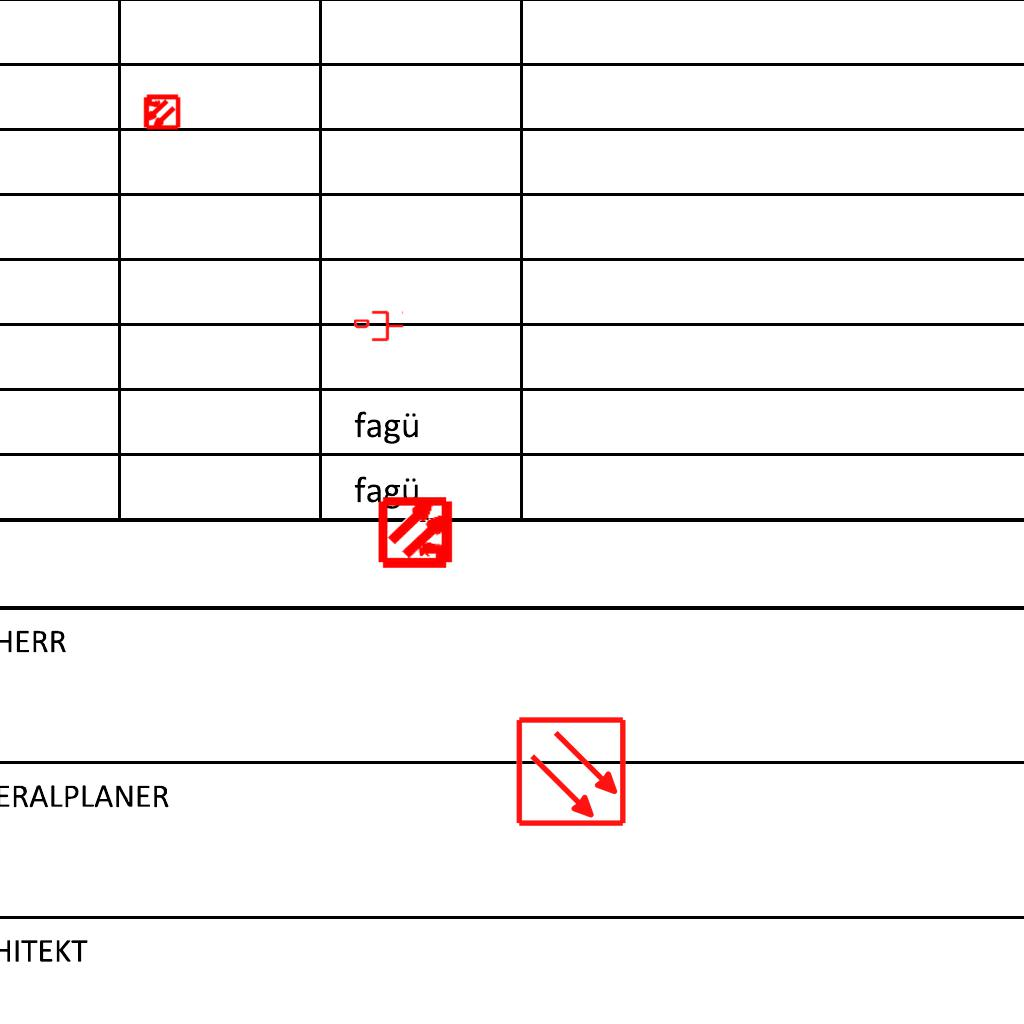Datenanschluss_einfach: (354, 309, 404, 343)
OT_Multisensormelder_(Kombination_RMO_WMD): (361, 476, 474, 589), (133, 84, 189, 140)
RMO_Rauchmelder_optischer: (515, 715, 628, 828)
